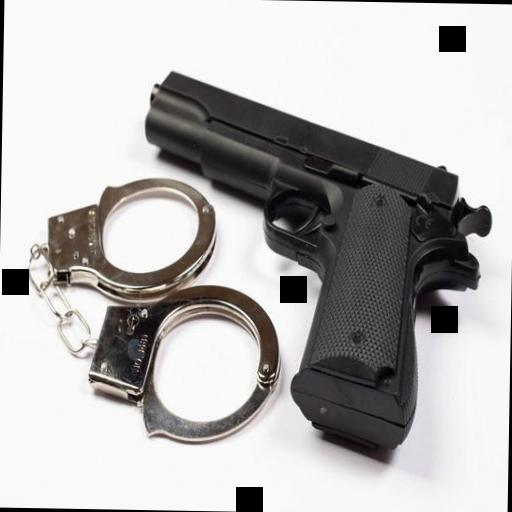Handgun: (136, 54, 494, 475)
